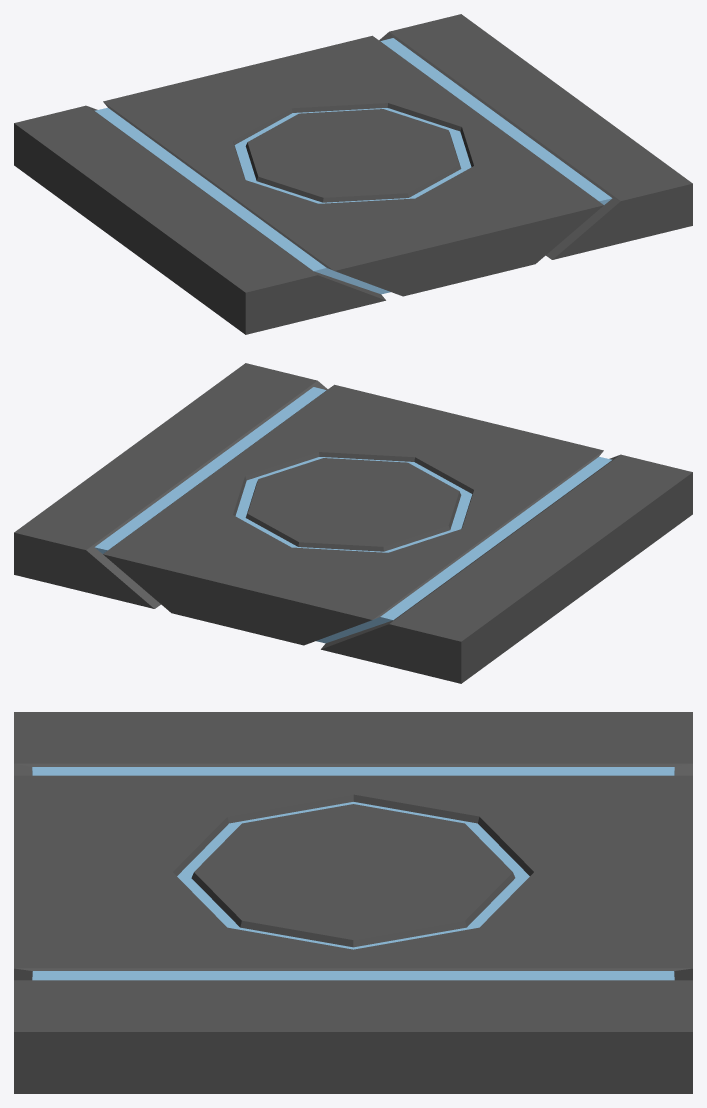
File: Platform_1.fbx
3 views of the same model, one above another, from view 1: azimuth 30°, elevation 25°; view 2: azimuth 150°, elevation 25°; view 3: azimuth 270°, elevation 25° (orthographic). The views are drawn at different scales.
Visible parts, largest first — view 1: Cube; view 2: Cube; view 3: Cube.
Part boxes in pixels (x1,y1,x2,y2): Cube: [14, 14, 692, 334]; Cube: [14, 363, 692, 683]; Cube: [14, 712, 692, 1093].
Bounding box in the file's own units: 233 × 21 × 209.
